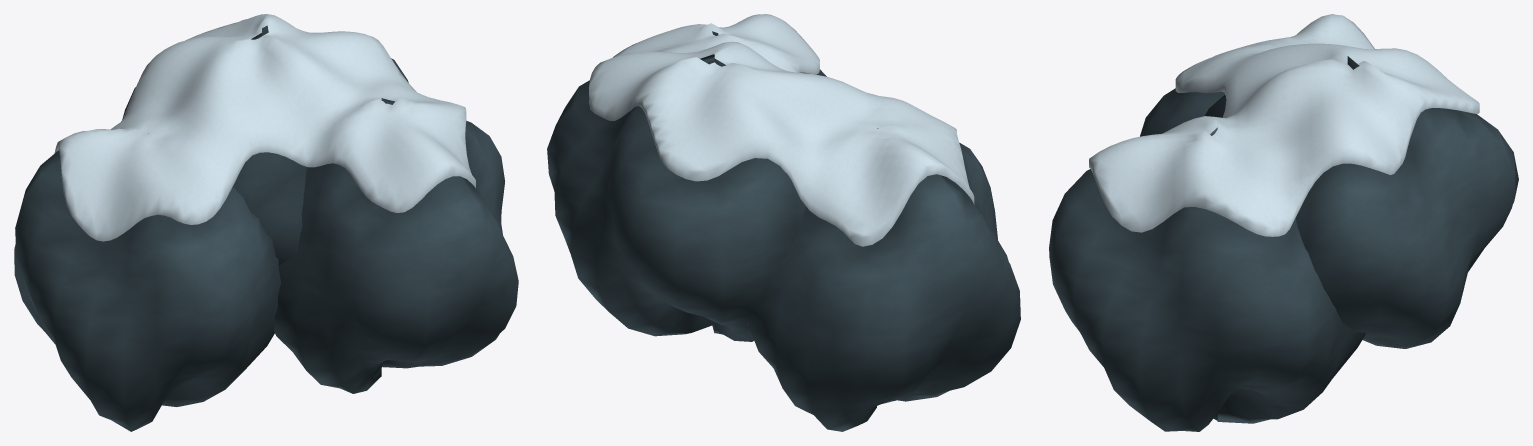
File: snow_rock.glb
The picture shows the model from 3 angles, left to right: view 1: azimuth 30°, elevation 25°; view 2: azimuth 150°, elevation 25°; view 3: azimuth 270°, elevation 25°; orthographic projection. The views are drawn at different scales.
Parts seen in each view (by area): view 1: snow_rock; view 2: snow_rock; view 3: snow_rock.
Part boxes in pixels (x1,y1,x2,y2): snow_rock: [14, 14, 518, 431]; snow_rock: [547, 14, 1020, 431]; snow_rock: [1049, 14, 1518, 431].
Size of the model in its own units: 1.38 by 0.9795 by 1.19.
Materials: 2 (2 with a texture image).
